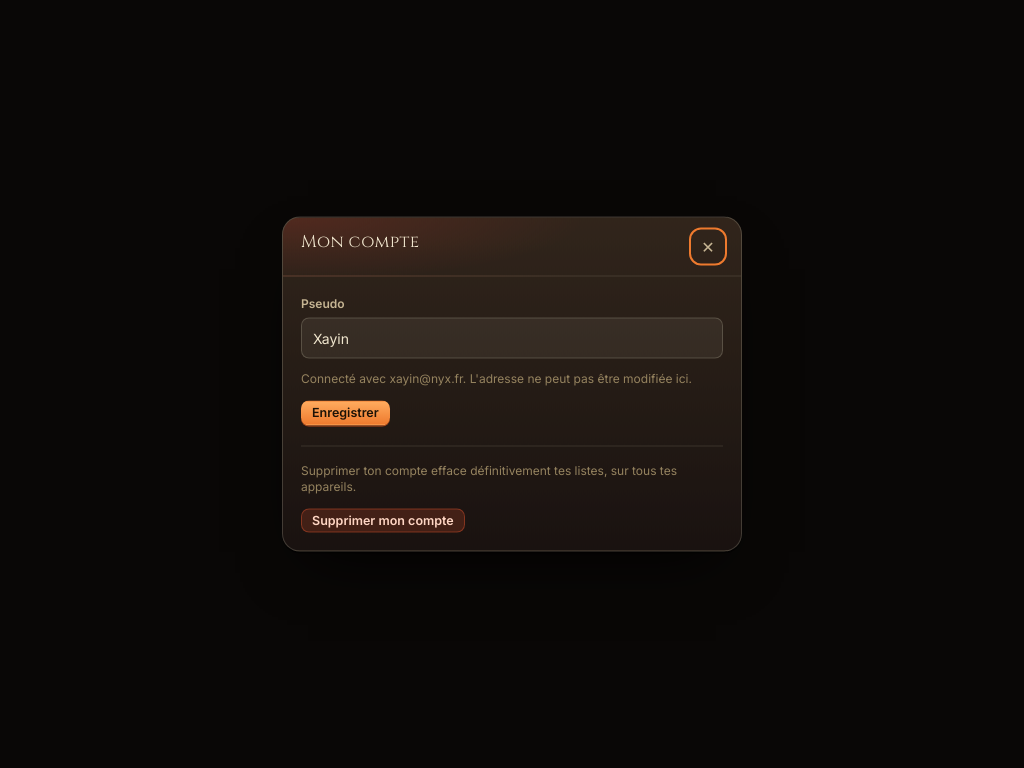
it: AccountDialog › garde la modale ouverte si la suppression échoue
Click the button "Supprimer mon compte". click: (383, 520)
box: [301,508,465,532]
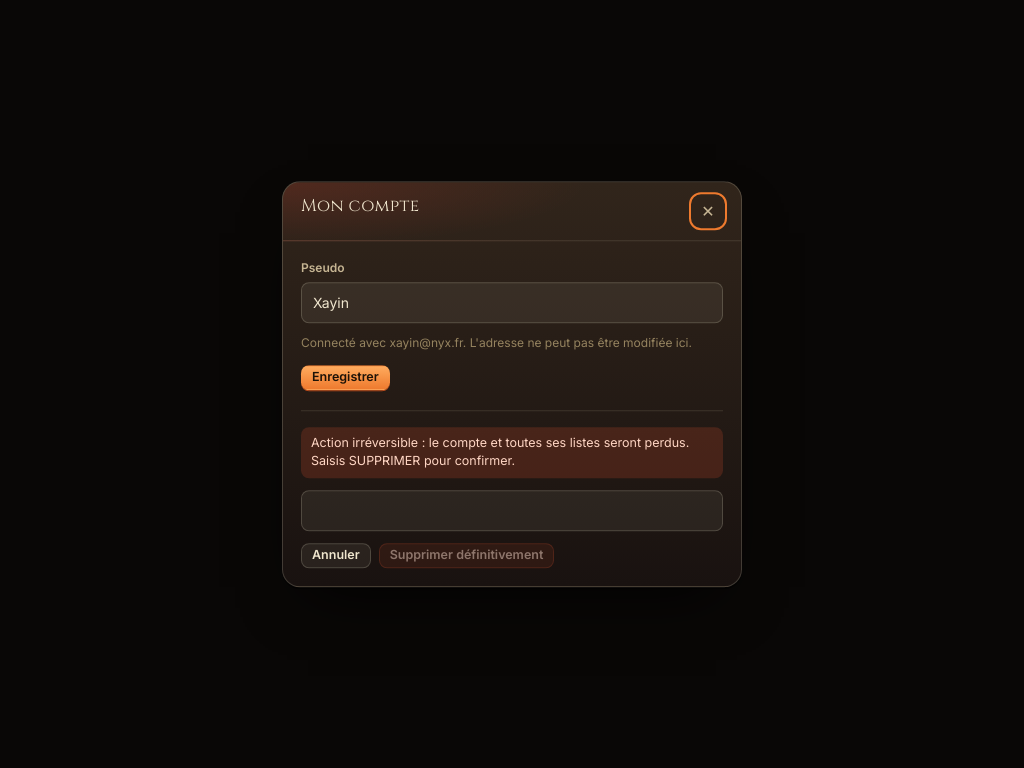
Type "SUPPRIMER" into the field named "Saisir SUPPRIMER". click: (512, 511)
box: [301,490,723,531]
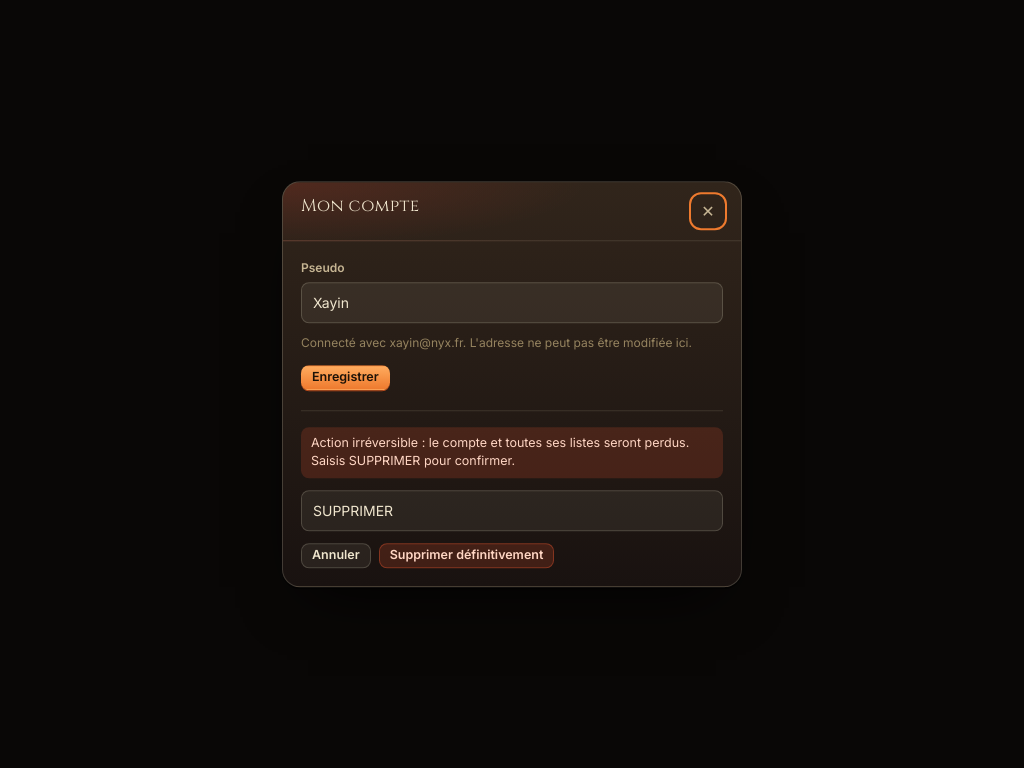
Click the button "Supprimer définitivement". click: (467, 556)
box: [379,543,554,568]
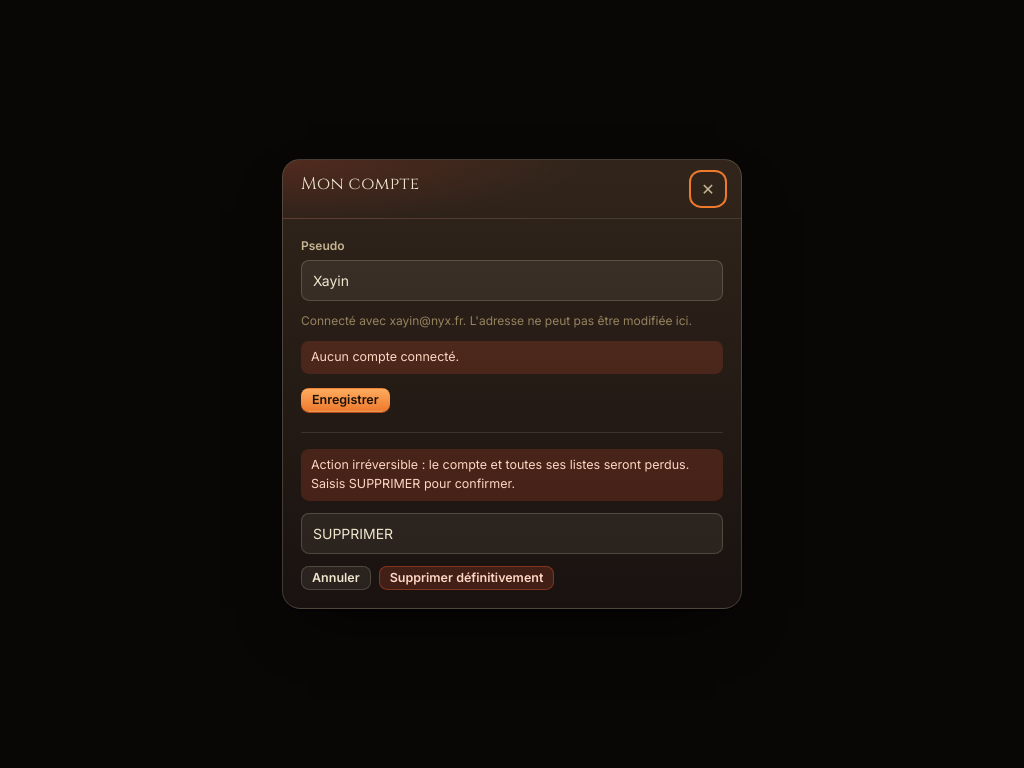
Now the message "Aucun compte connecté." is shown, box [301,341,723,374]
